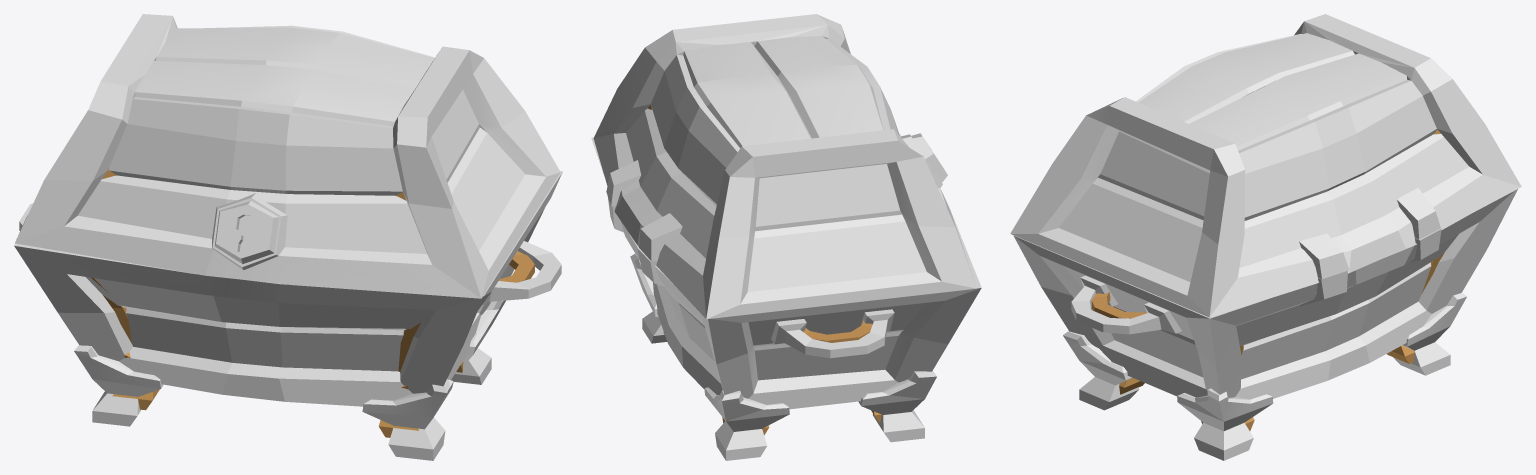
The model's file is chest1.glb.
3 views of the same model, side by side, from view 1: azimuth 30°, elevation 25°; view 2: azimuth 150°, elevation 25°; view 3: azimuth 270°, elevation 25° (orthographic). The views are drawn at different scales.
Visible parts, largest first — view 1: SM_Prop_Chest_04_Lid.001, SM_Prop_Chest_04.001, SM_Prop_Chest_04; view 2: SM_Prop_Chest_04_Lid.001, SM_Prop_Chest_04.001, SM_Prop_Chest_04; view 3: SM_Prop_Chest_04_Lid.001, SM_Prop_Chest_04.001, SM_Prop_Chest_04.
Boxes of the visible parts, left/top/right/bottom form: SM_Prop_Chest_04_Lid.001: left=15, top=14, right=560, bottom=298; SM_Prop_Chest_04.001: left=14, top=171, right=562, bottom=460; SM_Prop_Chest_04: left=91, top=251, right=534, bottom=437; SM_Prop_Chest_04_Lid.001: left=593, top=14, right=976, bottom=319; SM_Prop_Chest_04.001: left=591, top=137, right=981, bottom=460; SM_Prop_Chest_04: left=663, top=320, right=881, bottom=435; SM_Prop_Chest_04_Lid.001: left=1010, top=14, right=1521, bottom=317; SM_Prop_Chest_04.001: left=1013, top=189, right=1517, bottom=460; SM_Prop_Chest_04: left=1091, top=252, right=1444, bottom=430.
Bounding box in the file's own units: 1.65 × 1.07 × 1.65.
2 materials, 1 textured.
